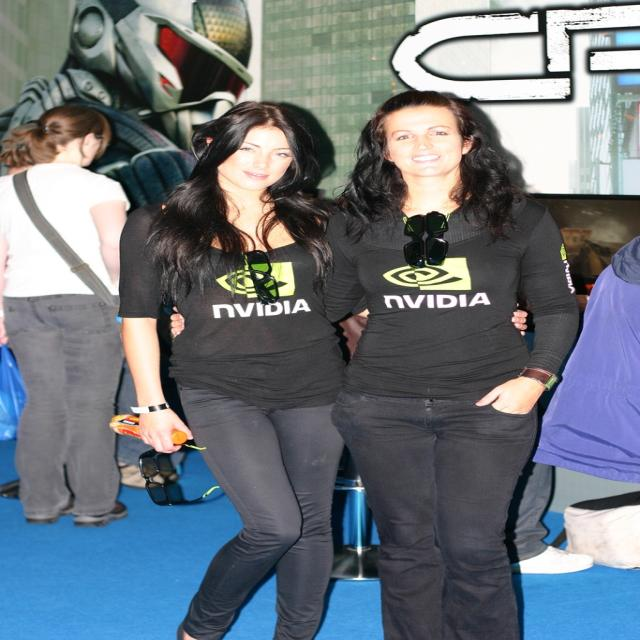nvidia: (384, 258, 475, 292), (217, 263, 296, 300)
